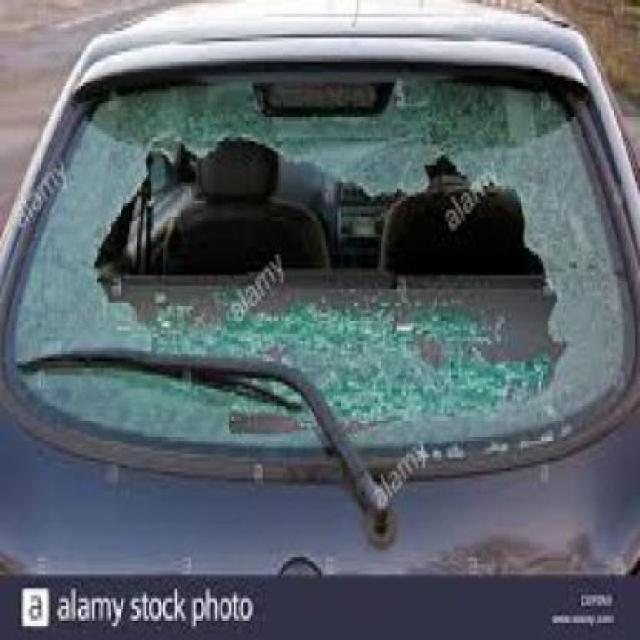Rear-windscreen-Damage: (0, 17, 638, 564)
